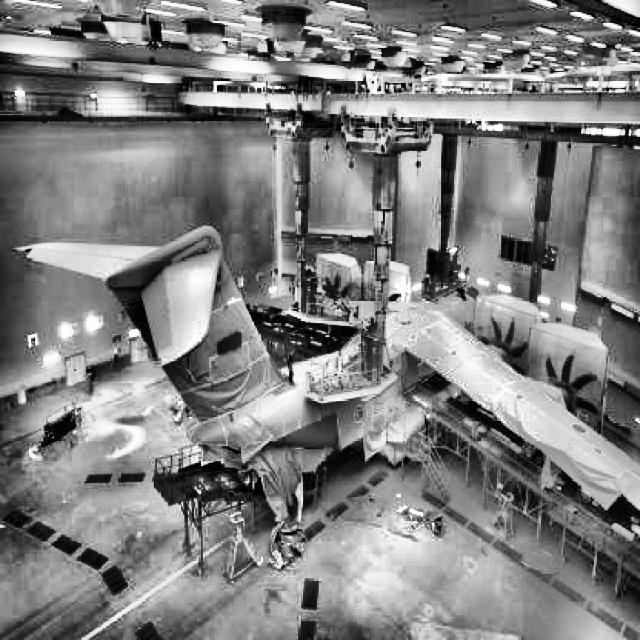A400M: (8, 225, 638, 488)
